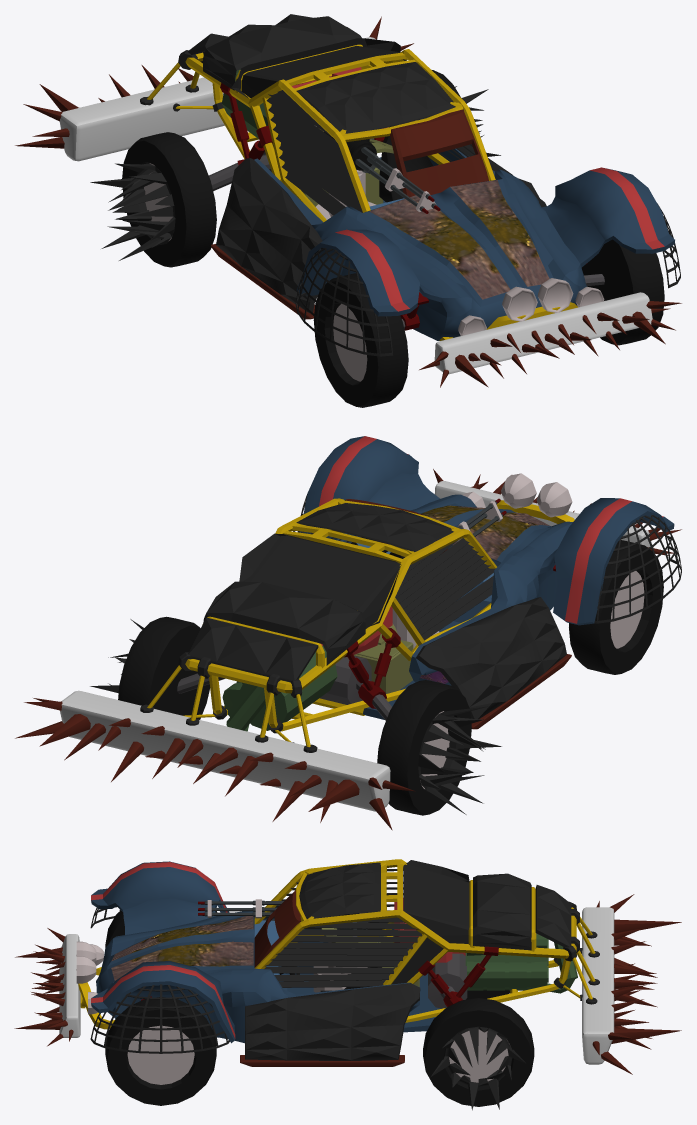
File: Buggy Armored.obj
3 renders of one model, top to bottom at view 1: azimuth 30°, elevation 25°; view 2: azimuth 150°, elevation 25°; view 3: azimuth 270°, elevation 25°, orthographic. The views are drawn at different scales.
Parts seen in each view (by area): view 1: Buggy_Geo Buggy_Buggy Buggy, Buggy_Geo Buggy_Buggy Buggy Wheel1_Geo Wheels, Buggy_Geo Buggy_Buggy Buggy Buggy_Armor Back_Bumper Bumper, Buggy_Geo Buggy_Buggy Buggy Buggy_Armor Panel_7_Geo, Buggy_Geo Buggy_Buggy Buggy Buggy_Armor Front_Bumper, Buggy_Geo Buggy_Buggy Buggy Wheels Wheel3_Geo, Buggy_Geo Buggy_Buggy Buggy Buggy_Armor Panel_4_Geo, Buggy_Geo Buggy_Buggy Buggy Buggy_Armor Window_Visors, Buggy_Geo Buggy_Buggy Buggy Buggy_Armor WindShield, Buggy_Geo Buggy_Buggy Buggy Buggy_Armor Panel_1_Geo, Buggy_Geo Buggy_Buggy Buggy Wheels Wheel4_Geo, Buggy_Geo Buggy_Buggy Buggy Buggy_Armor Panel_3_Geo (+4 smaller); view 2: Buggy_Geo Buggy_Buggy Buggy, Buggy_Geo Buggy_Buggy Buggy Buggy_Armor Back_Bumper Bumper, Buggy_Geo Buggy_Buggy Buggy Wheel1_Geo Wheels, Buggy_Geo Buggy_Buggy Buggy Buggy_Armor Panel_7_Geo, Buggy_Geo Buggy_Buggy Buggy Buggy_Armor Panel_3_Geo, Buggy_Geo Buggy_Buggy Buggy Wheels Wheel3_Geo, Buggy_Geo Buggy_Buggy Buggy Buggy_Armor Panel_1_Geo, Buggy_Geo Buggy_Buggy Buggy Buggy_Armor Window_Visors, Buggy_Geo Buggy_Buggy Buggy Wheels Wheel2_Geo, Buggy_Geo Buggy_Buggy Buggy Buggy_Armor Panel_2_Geo, Buggy_Geo Buggy_Buggy Buggy Buggy_Armor Panel_4_Geo, Buggy_Geo Buggy_Buggy Buggy Buggy_Armor Wheel_Guard (+3 smaller); view 3: Buggy_Geo Buggy_Buggy Buggy, Buggy_Geo Buggy_Buggy Buggy Buggy_Armor Panel_6_Geo, Buggy_Geo Buggy_Buggy Buggy Wheels Wheel2_Geo, Buggy_Geo Buggy_Buggy Buggy Wheels Wheel4_Geo, Buggy_Geo Buggy_Buggy Buggy Buggy_Armor Window_Visors, Buggy_Geo Buggy_Buggy Buggy Buggy_Armor Back_Bumper Bumper, Buggy_Geo Buggy_Buggy Buggy Buggy_Armor Panel_3_Geo, Buggy_Geo Buggy_Buggy Buggy Buggy_Armor Panel_1_Geo, Buggy_Geo Buggy_Buggy Buggy Buggy_Armor Panel_4_Geo, Buggy_Geo Buggy_Buggy Buggy Buggy_Armor Front_Bumper, Buggy_Geo Buggy_Buggy Buggy Buggy_Armor Wheel_Guard, Buggy_Geo Buggy_Buggy Buggy Buggy_Armor Panel_2_Geo (+5 smaller).
Boxes of the visible parts, left/top/right/bottom form: Buggy_Geo Buggy_Buggy Buggy: left=185, top=44, right=674, bottom=340; Buggy_Geo Buggy_Buggy Buggy Wheel1_Geo Wheels: left=90, top=132, right=216, bottom=267; Buggy_Geo Buggy_Buggy Buggy Buggy_Armor Back_Bumper Bumper: left=15, top=16, right=413, bottom=161; Buggy_Geo Buggy_Buggy Buggy Buggy_Armor Panel_7_Geo: left=216, top=157, right=322, bottom=312; Buggy_Geo Buggy_Buggy Buggy Buggy_Armor Front_Bumper: left=419, top=292, right=681, bottom=387; Buggy_Geo Buggy_Buggy Buggy Wheels Wheel3_Geo: left=313, top=273, right=408, bottom=407; Buggy_Geo Buggy_Buggy Buggy Buggy_Armor Panel_4_Geo: left=296, top=62, right=455, bottom=133; Buggy_Geo Buggy_Buggy Buggy Buggy_Armor Window_Visors: left=266, top=59, right=475, bottom=215; Buggy_Geo Buggy_Buggy Buggy Buggy_Armor WindShield: left=390, top=109, right=488, bottom=197; Buggy_Geo Buggy_Buggy Buggy Buggy_Armor Panel_1_Geo: left=203, top=16, right=361, bottom=90; Buggy_Geo Buggy_Buggy Buggy Wheels Wheel4_Geo: left=581, top=239, right=664, bottom=345; Buggy_Geo Buggy_Buggy Buggy Buggy_Armor Panel_3_Geo: left=231, top=38, right=400, bottom=98; Buggy_Geo Buggy_Buggy Buggy: left=177, top=436, right=674, bottom=731; Buggy_Geo Buggy_Buggy Buggy Buggy_Armor Back_Bumper Bumper: left=15, top=690, right=392, bottom=830; Buggy_Geo Buggy_Buggy Buggy Wheel1_Geo Wheels: left=377, top=680, right=501, bottom=815; Buggy_Geo Buggy_Buggy Buggy Buggy_Armor Panel_7_Geo: left=416, top=597, right=566, bottom=719; Buggy_Geo Buggy_Buggy Buggy Buggy_Armor Panel_3_Geo: left=239, top=533, right=401, bottom=628; Buggy_Geo Buggy_Buggy Buggy Wheels Wheel3_Geo: left=569, top=540, right=663, bottom=674; Buggy_Geo Buggy_Buggy Buggy Buggy_Armor Panel_1_Geo: left=203, top=581, right=365, bottom=665; Buggy_Geo Buggy_Buggy Buggy Buggy_Armor Window_Visors: left=293, top=531, right=495, bottom=640; Buggy_Geo Buggy_Buggy Buggy Wheels Wheel2_Geo: left=90, top=616, right=209, bottom=719; Buggy_Geo Buggy_Buggy Buggy Buggy_Armor Panel_2_Geo: left=188, top=617, right=318, bottom=681; Buggy_Geo Buggy_Buggy Buggy Buggy_Armor Panel_4_Geo: left=296, top=503, right=453, bottom=551; Buggy_Geo Buggy_Buggy Buggy Buggy_Armor Wheel_Guard: left=297, top=494, right=681, bottom=623; Buggy_Geo Buggy_Buggy Buggy: left=76, top=859, right=577, bottom=1043; Buggy_Geo Buggy_Buggy Buggy Buggy_Armor Panel_6_Geo: left=245, top=983, right=420, bottom=1060; Buggy_Geo Buggy_Buggy Buggy Wheels Wheel2_Geo: left=423, top=998, right=534, bottom=1110; Buggy_Geo Buggy_Buggy Buggy Wheels Wheel4_Geo: left=105, top=997, right=216, bottom=1105; Buggy_Geo Buggy_Buggy Buggy Buggy_Armor Window_Visors: left=263, top=869, right=422, bottom=987; Buggy_Geo Buggy_Buggy Buggy Buggy_Armor Back_Bumper Bumper: left=582, top=894, right=681, bottom=1074; Buggy_Geo Buggy_Buggy Buggy Buggy_Armor Panel_3_Geo: left=403, top=860, right=469, bottom=943; Buggy_Geo Buggy_Buggy Buggy Buggy_Armor Panel_1_Geo: left=473, top=873, right=531, bottom=950; Buggy_Geo Buggy_Buggy Buggy Buggy_Armor Panel_4_Geo: left=299, top=862, right=380, bottom=919; Buggy_Geo Buggy_Buggy Buggy Buggy_Armor Front_Bumper: left=14, top=928, right=80, bottom=1046; Buggy_Geo Buggy_Buggy Buggy Buggy_Armor Wheel_Guard: left=90, top=906, right=229, bottom=1053; Buggy_Geo Buggy_Buggy Buggy Buggy_Armor Panel_2_Geo: left=535, top=885, right=571, bottom=947.
Bounding box in the file's own units: 20.19 × 10.41 × 36.88.
